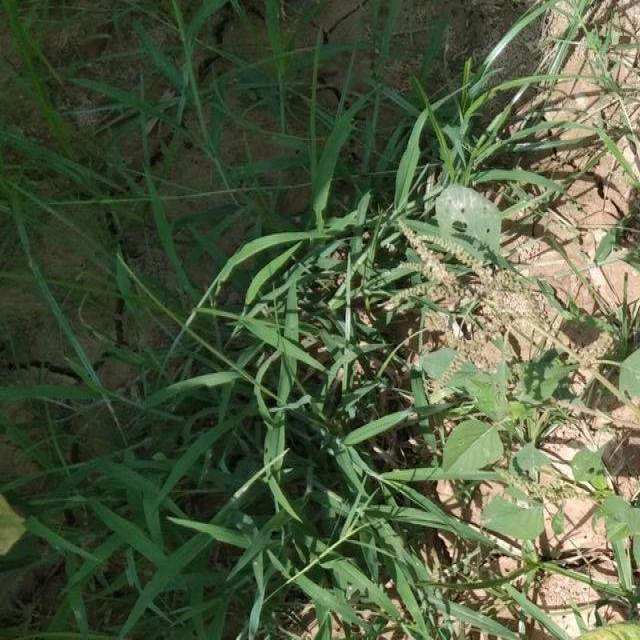weed: (8, 9, 388, 640), (422, 337, 640, 635)
